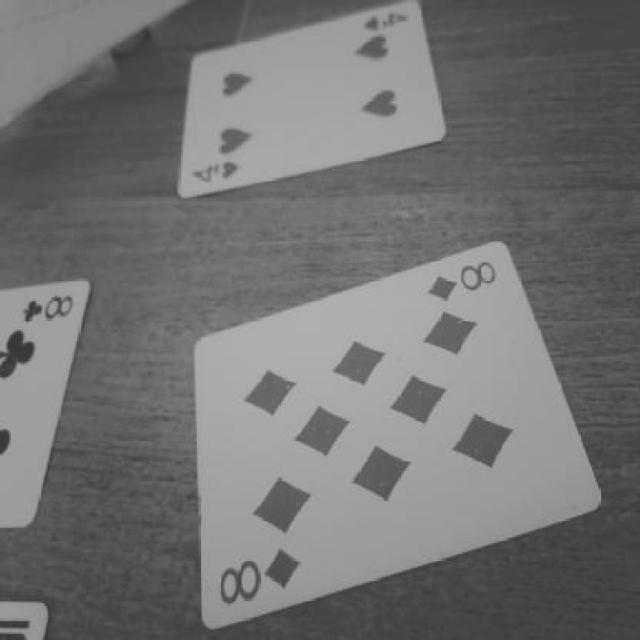4H: (354, 5, 420, 46)
8C: (15, 288, 79, 324)
8D: (202, 540, 315, 618), (421, 245, 510, 320)
